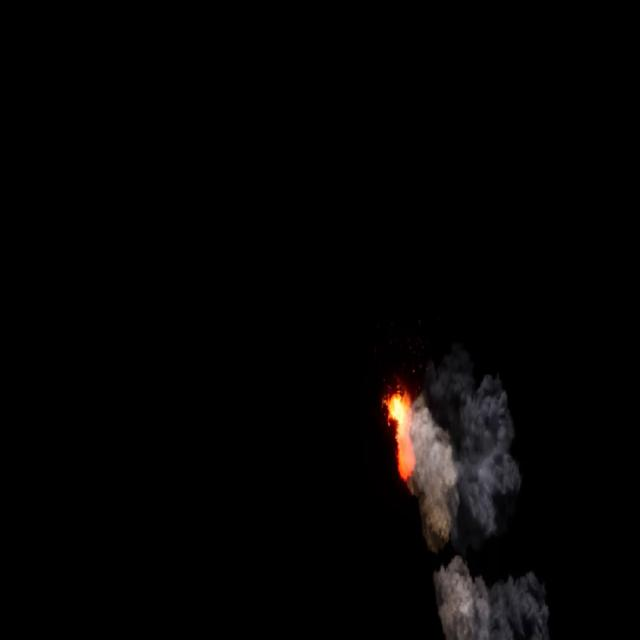fire: (384, 384, 410, 474)
smoke: (412, 361, 546, 639)
